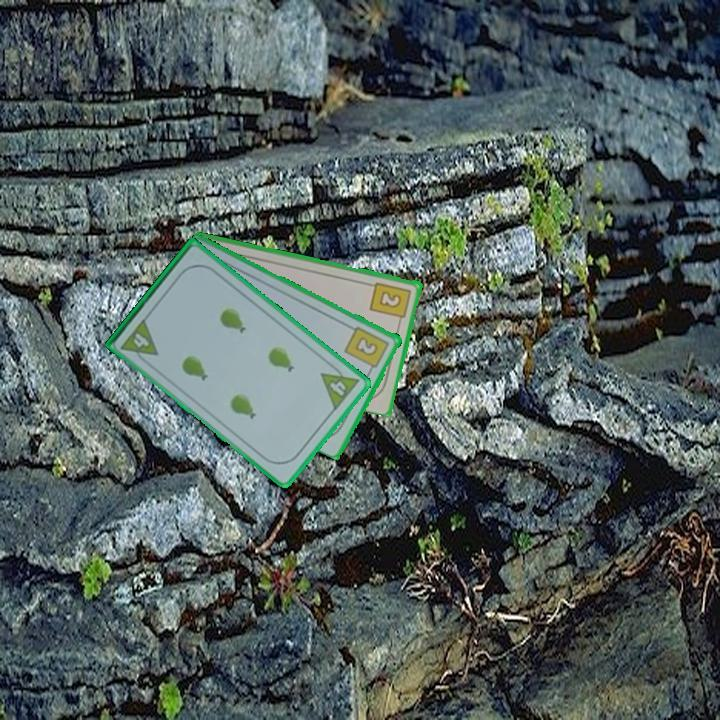2b: (341, 323, 392, 375), (367, 278, 414, 326)
4p: (317, 359, 362, 413), (117, 315, 161, 368)
